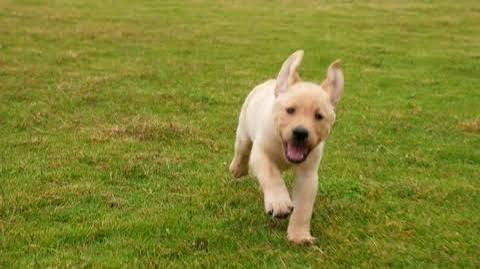puppy-dog: (227, 49, 348, 246)
